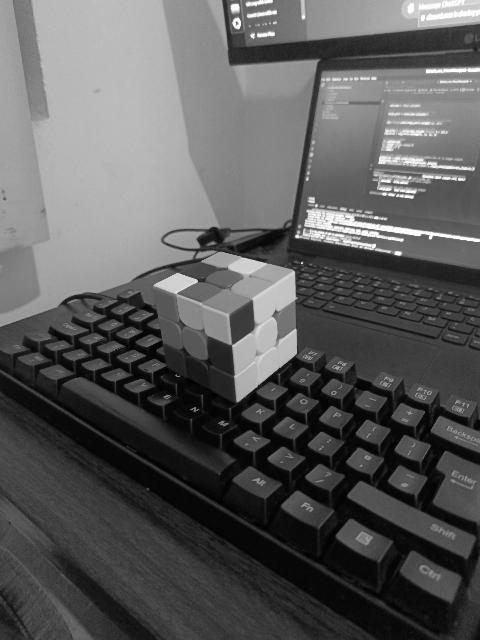rubik: (152, 250, 298, 402)
